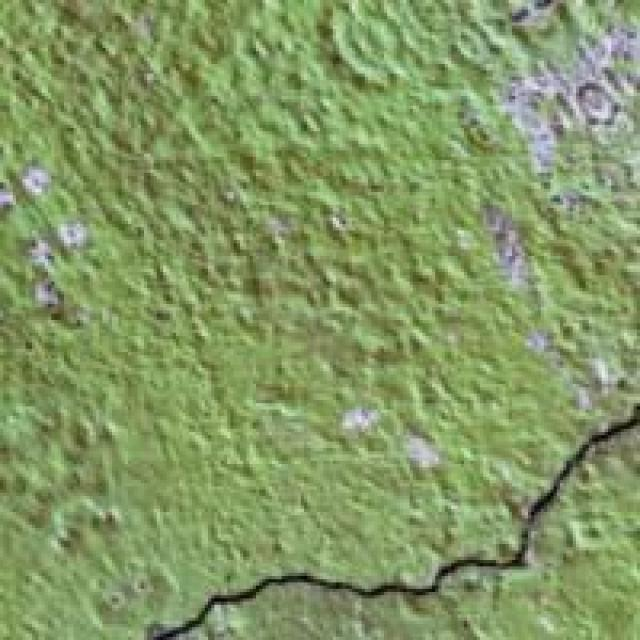crack: (118, 390, 637, 637)
